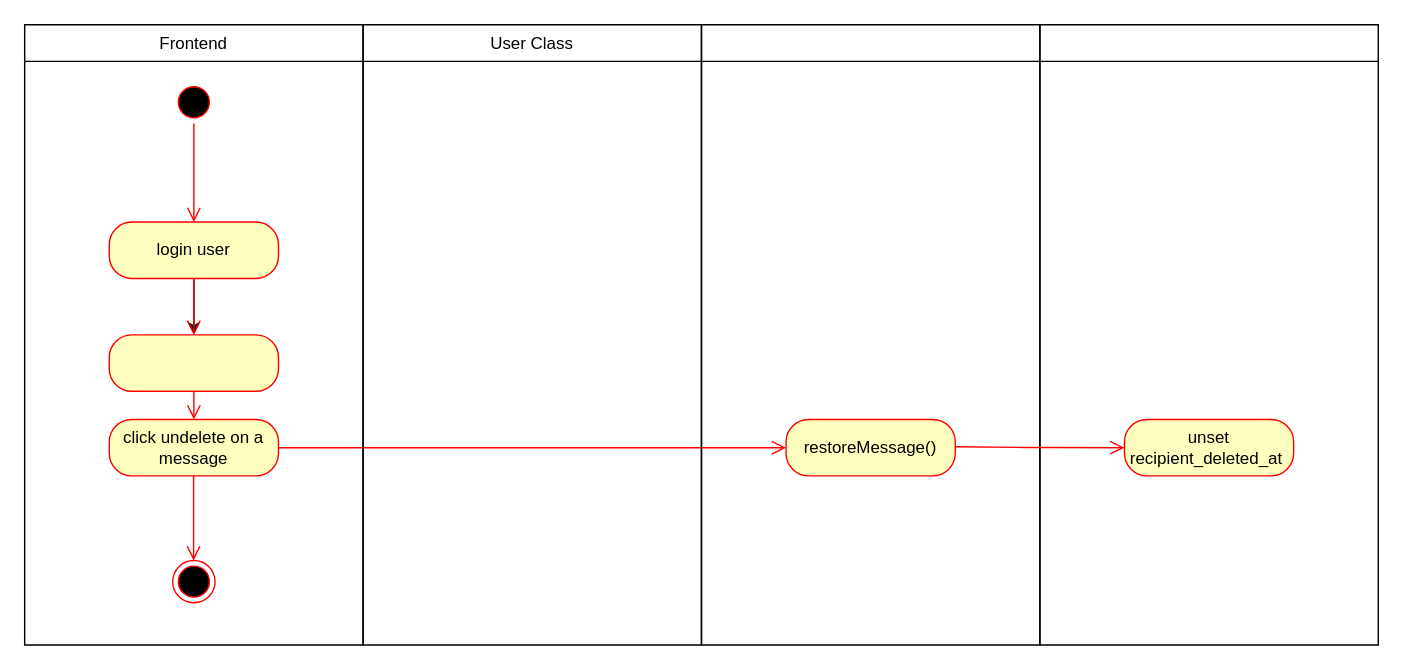
Image size: 1403x670. Some labels were removed from this diagram. Here are the shapes that lost their labels. From the top down, the box of each, then its label:
(700, 23, 1040, 645): Message Class
(1038, 23, 1378, 645): DB
(108, 333, 278, 391): open messages page
